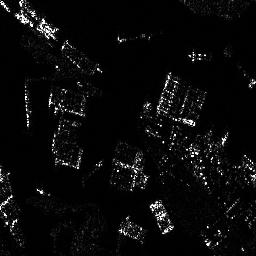ship: (23, 81, 32, 129), (118, 32, 153, 44)
